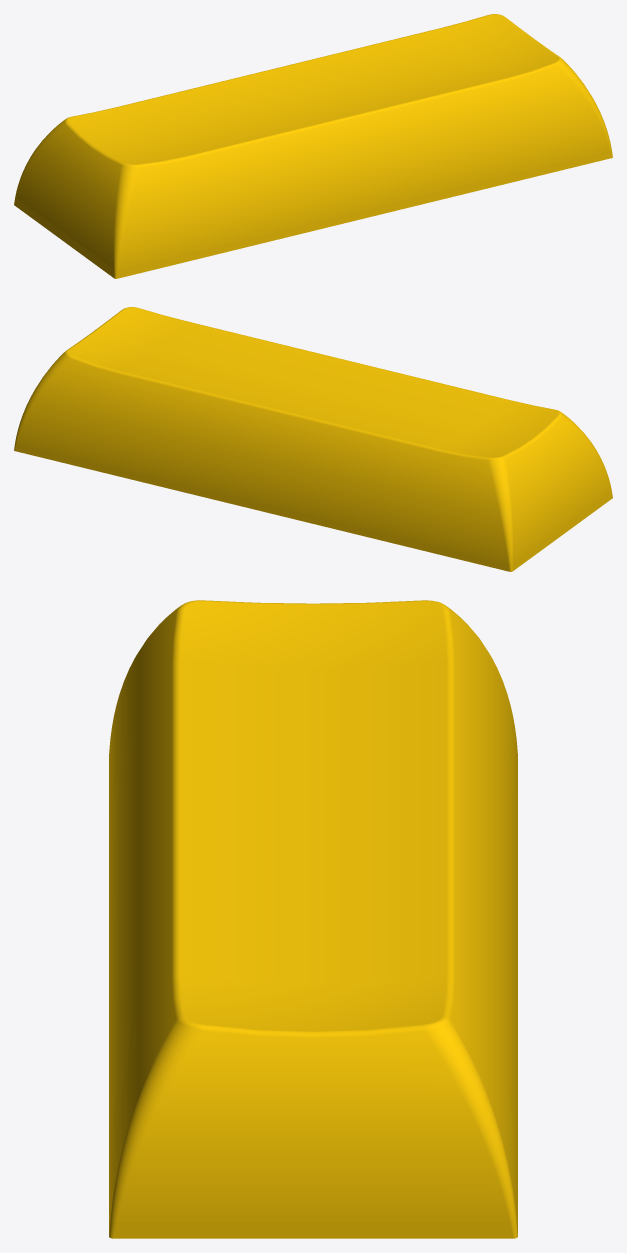
3 views of the same model, one above another, from view 1: azimuth 30°, elevation 25°; view 2: azimuth 150°, elevation 25°; view 3: azimuth 270°, elevation 25° (orthographic). The views are drawn at different scales.
Visible parts, largest first — view 1: Body113; view 2: Body113; view 3: Body113.
Boxes of the visible parts, x1,y1,x2,y2 form: Body113: (14, 14, 612, 278); Body113: (14, 307, 612, 571); Body113: (109, 600, 517, 1238).
Size of the model in its own units: 51.56 by 9.05 by 18.31.
